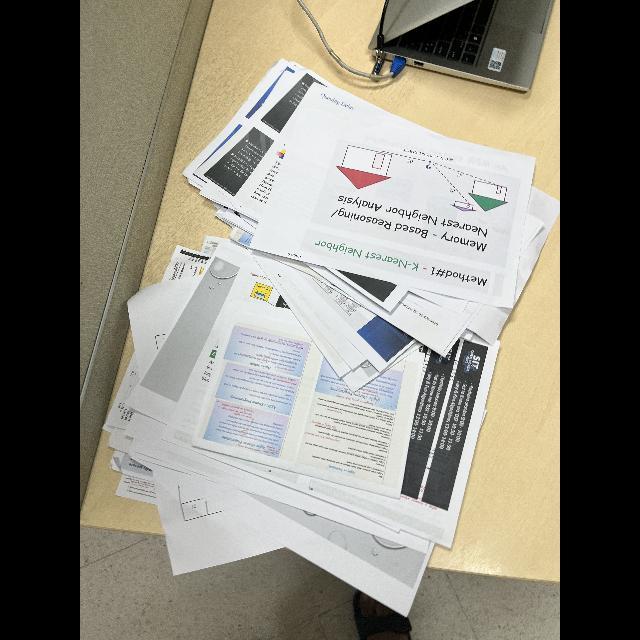reuseable_paper: (102, 55, 560, 612)
